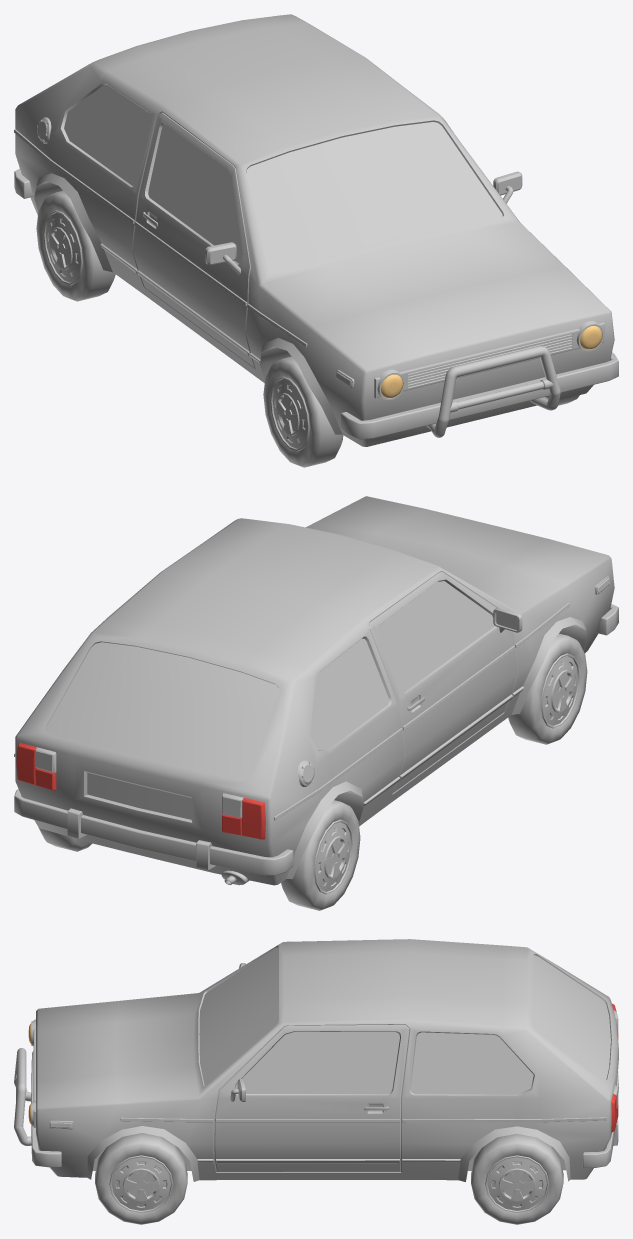
Rendered from SM_Vehicles_02_V1.fbx.
3 views of the same model, one above another, from view 1: azimuth 30°, elevation 25°; view 2: azimuth 150°, elevation 25°; view 3: azimuth 270°, elevation 25° (orthographic). The views are drawn at different scales.
Parts seen in each view (by area): view 1: SM_Vehicles_02_V1, SM_Vehicles_02_FR, SM_Vehicles_02_RR; view 2: SM_Vehicles_02_V1, SM_Vehicles_02_RR, SM_Vehicles_02_FR, SM_Vehicles_02_RL; view 3: SM_Vehicles_02_V1, SM_Vehicles_02_FL, SM_Vehicles_02_RL.
Boxes of the visible parts, x1=… form: SM_Vehicles_02_V1: x1=14, y1=14, x2=618, y2=446; SM_Vehicles_02_FR: x1=263, y1=356, x2=343, y2=467; SM_Vehicles_02_RR: x1=36, y1=191, x2=115, y2=301; SM_Vehicles_02_V1: x1=14, y1=496, x2=618, y2=885; SM_Vehicles_02_RR: x1=281, y1=800, x2=360, y2=910; SM_Vehicles_02_FR: x1=508, y1=633, x2=587, y2=744; SM_Vehicles_02_RL: x1=38, y1=827, x2=92, y2=851; SM_Vehicles_02_V1: x1=14, y1=939, x2=618, y2=1181; SM_Vehicles_02_FL: x1=95, y1=1133, x2=187, y2=1224; SM_Vehicles_02_RL: x1=471, y1=1134, x2=563, y2=1224.
Size of the model in its own units: 1.9 by 1.38 by 3.81.
